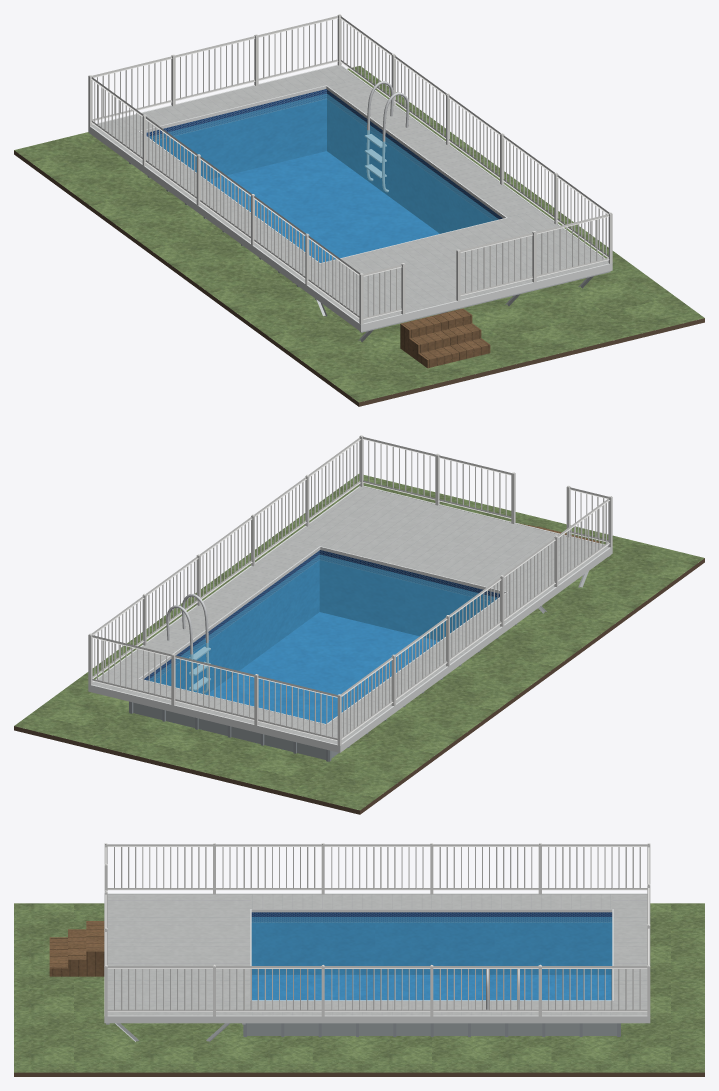
File: kayak-pool-12x20-gray-end-rec-fence.c281ff6222.glb
3 renders of one model, top to bottom at view 1: azimuth 30°, elevation 25°; view 2: azimuth 150°, elevation 25°; view 3: azimuth 270°, elevation 25°, orthographic.
Visible parts, largest first — view 1: ground, deck, water, fence, liner_wall, liner_floor, fascia, steps, soil, steel, stud; view 2: ground, deck, water, fence, liner_wall, liner_floor, fascia, soil, wall, steel; view 3: ground, deck, water, liner_wall, fence, liner_floor, fascia, wall, soil, steps, upright.
Boxes of the visible parts, box(x1,y1,x2,y2) form: ground: box(14, 66, 704, 402); deck: box(92, 65, 608, 323); water: box(150, 93, 498, 262); fence: box(88, 14, 612, 324); liner_wall: box(146, 89, 502, 233); liner_floor: box(207, 151, 439, 262); fascia: box(88, 64, 612, 331); steps: box(400, 308, 490, 368); soil: box(14, 150, 704, 406); steel: box(364, 81, 409, 192); stud: box(292, 271, 610, 341); ground: box(14, 474, 704, 810); deck: box(92, 486, 608, 744); water: box(148, 554, 496, 723); fence: box(88, 435, 612, 745); liner_wall: box(144, 550, 499, 694); liner_floor: box(207, 612, 438, 723); fascia: box(88, 485, 612, 752); soil: box(14, 558, 704, 814); wall: box(133, 702, 338, 759); steel: box(166, 594, 210, 693); ground: box(14, 903, 704, 1072); deck: box(107, 894, 647, 1015); water: box(251, 917, 612, 1000); liner_wall: box(251, 912, 612, 974); fence: box(104, 843, 650, 1016); liner_floor: box(252, 975, 611, 1000); fascia: box(104, 893, 650, 1023); wall: box(247, 1023, 616, 1035); soil: box(14, 1072, 704, 1076); steps: box(49, 921, 104, 976); upright: box(243, 1023, 620, 1036).
Size of the model in its own units: 6.71 by 2.15 by 11.57.
Materials: 13 (5 with a texture image).
